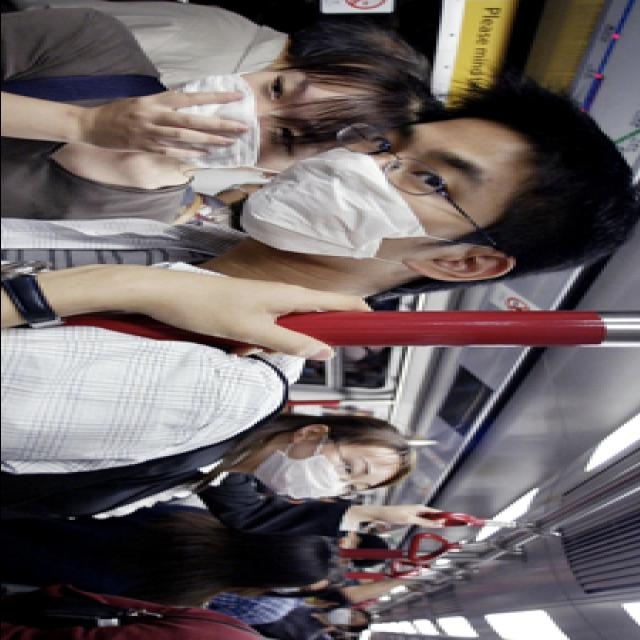with_mask: (245, 122, 492, 260), (148, 68, 336, 170), (253, 443, 381, 501), (327, 608, 367, 626)
